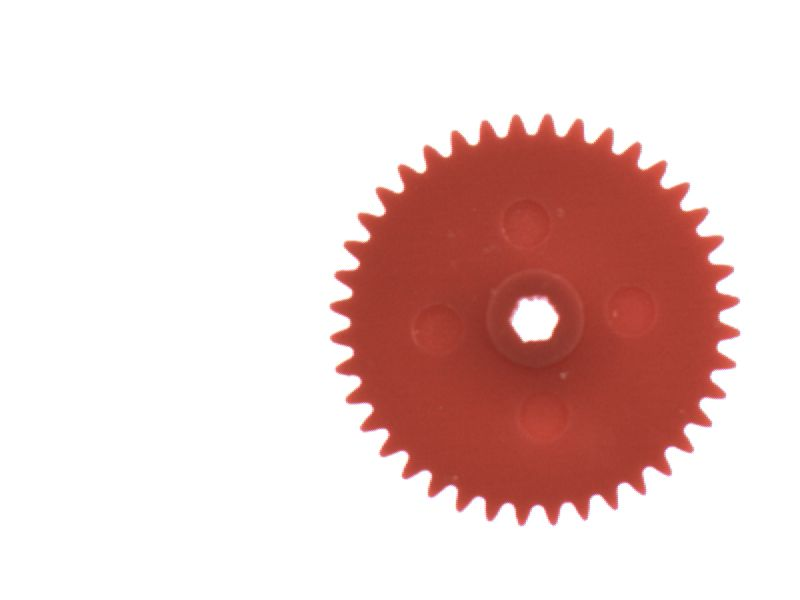good_product: (319, 103, 751, 538)
